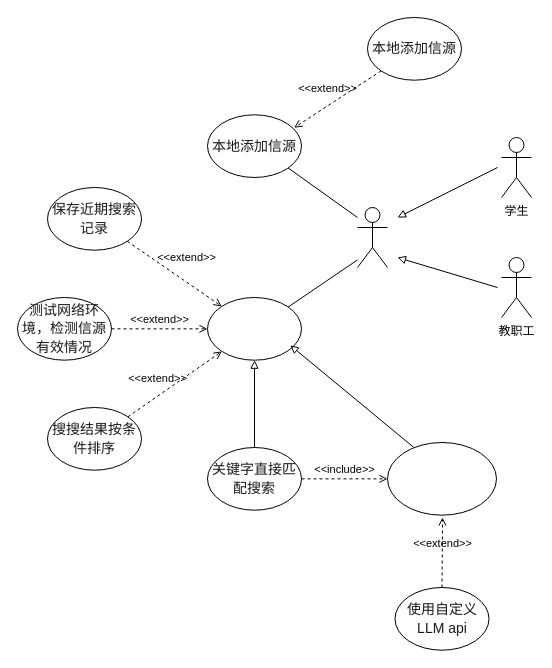
This 552x668 diagram has some shape labels left out. Each missing label, with the centre of its shape:
使用默认LLM api进行AI聚合搜索: [441,478]
搜索通知: [254,328]
用户: [372,237]
